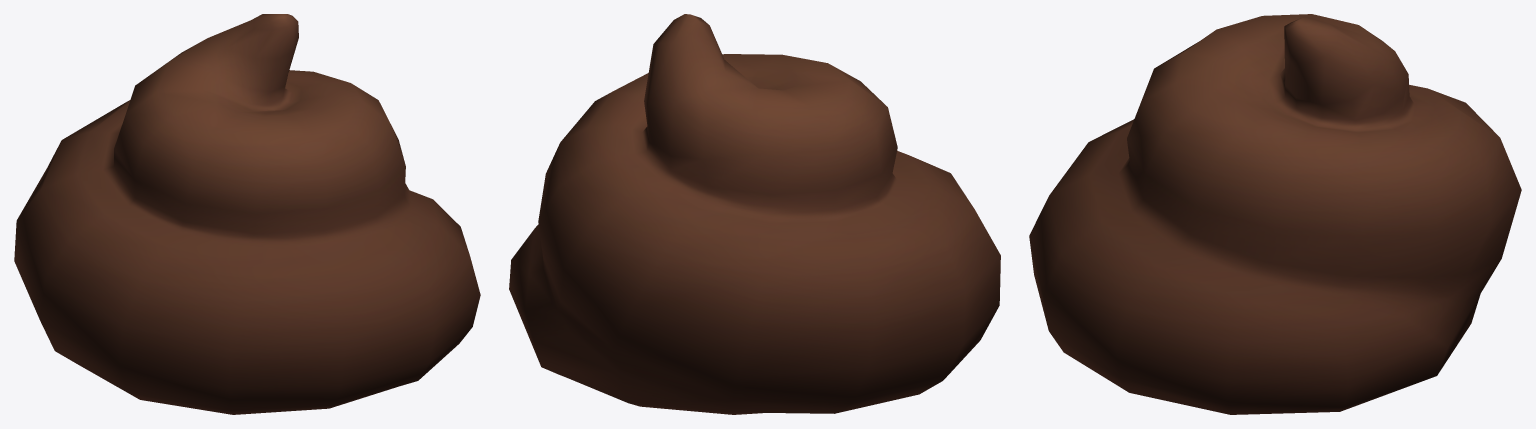
Rendered from Poo.FBX.
The picture shows the model from 3 angles, left to right: view 1: azimuth 30°, elevation 25°; view 2: azimuth 150°, elevation 25°; view 3: azimuth 270°, elevation 25°; orthographic projection. The views are drawn at different scales.
Visible parts, largest first — view 1: Poo; view 2: Poo; view 3: Poo.
Boxes of the visible parts, left/top/right/bottom form: Poo: left=14, top=14, right=480, bottom=414; Poo: left=509, top=14, right=1000, bottom=414; Poo: left=1029, top=14, right=1521, bottom=414.
Size of the model in its own units: 85.8 by 62.56 by 84.77.
